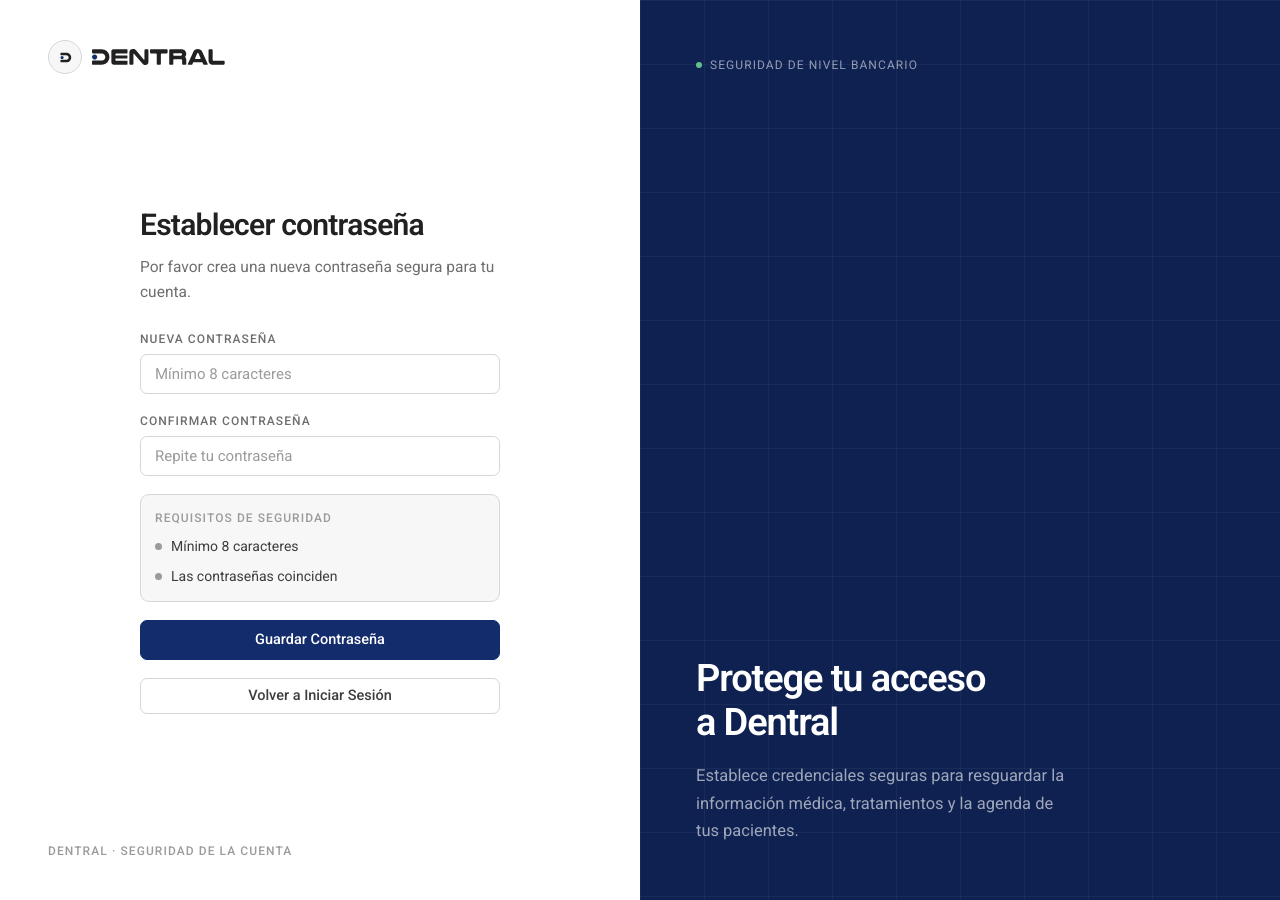
Scenario: Auth Module — Set Password Page › submits the form successfully and displays success feedback
This screenshot has width=1280, height=900.
Step 1. Type "securepwd123" into the password field labelled "Nueva contraseña" → (320, 374), box [140,354,500,394]
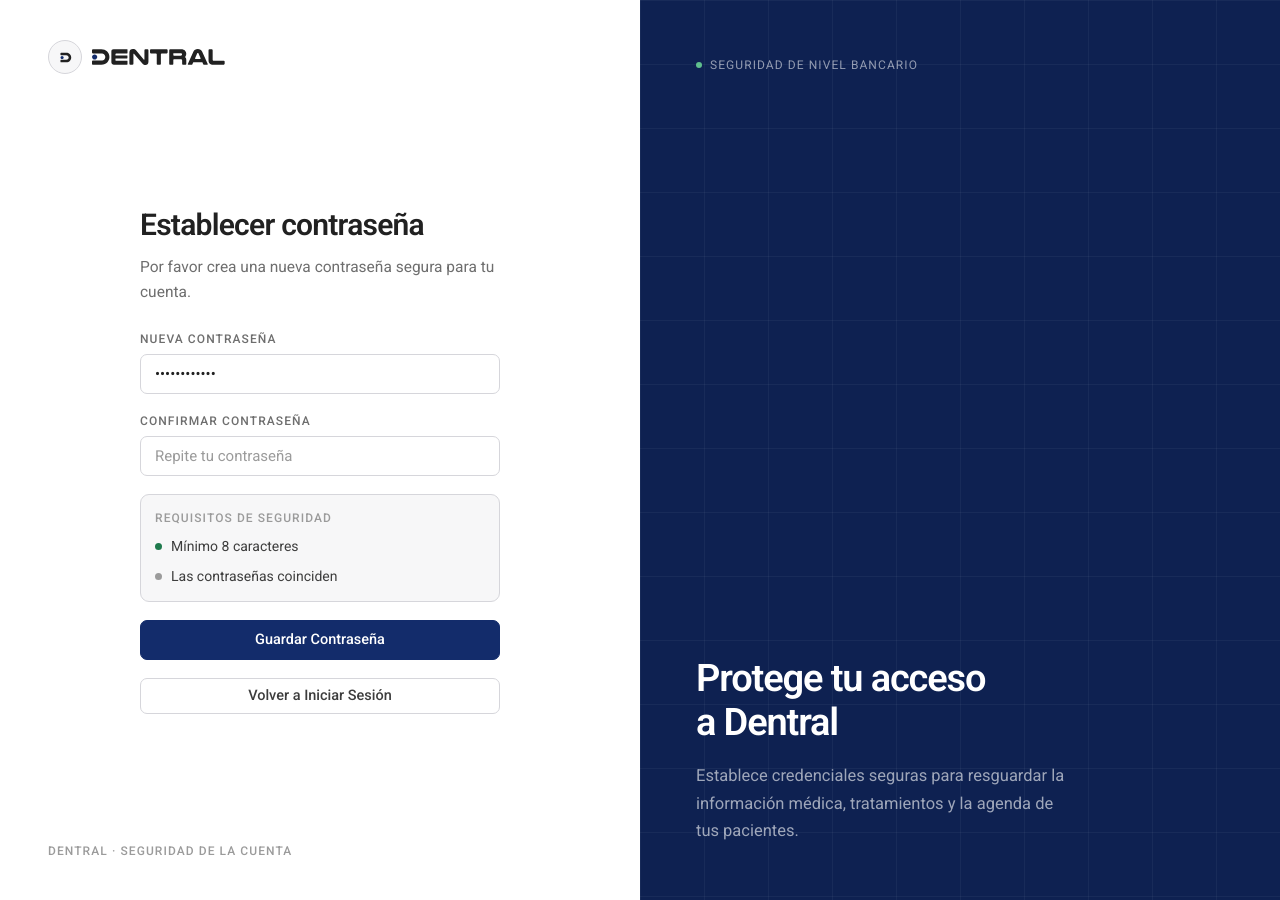
Step 2. Type "securepwd123" into the password field labelled "Confirmar contraseña" → (320, 456), box [140,436,500,476]
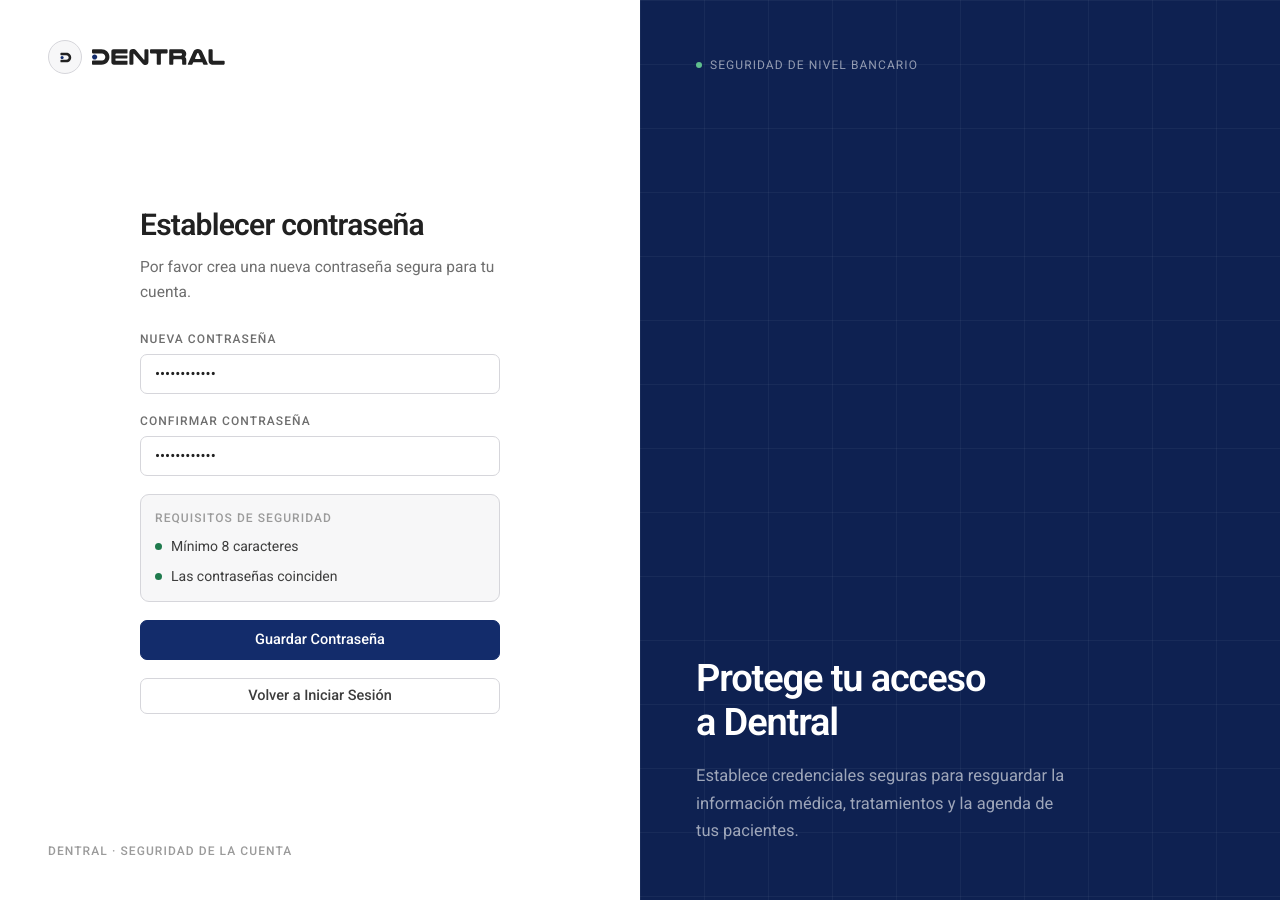
Step 3. Click the button "Guardar Contraseña" → (320, 640), box [140,620,500,660]
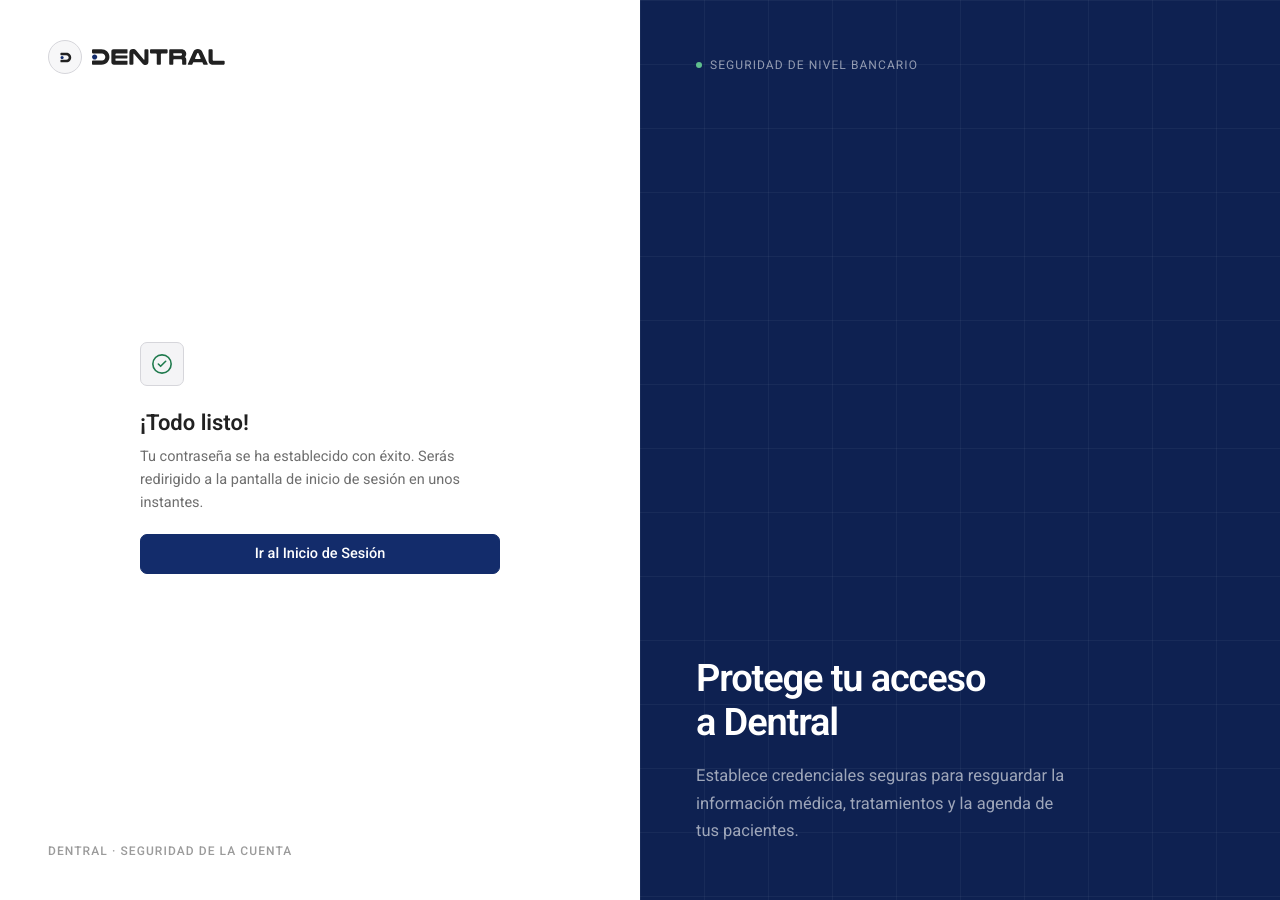
Now the heading "¡Todo listo!" is shown, box [140,410,249,435]
Now the text "Tu contraseña se ha establecido con éxito" is shown, box [140,448,460,511]
